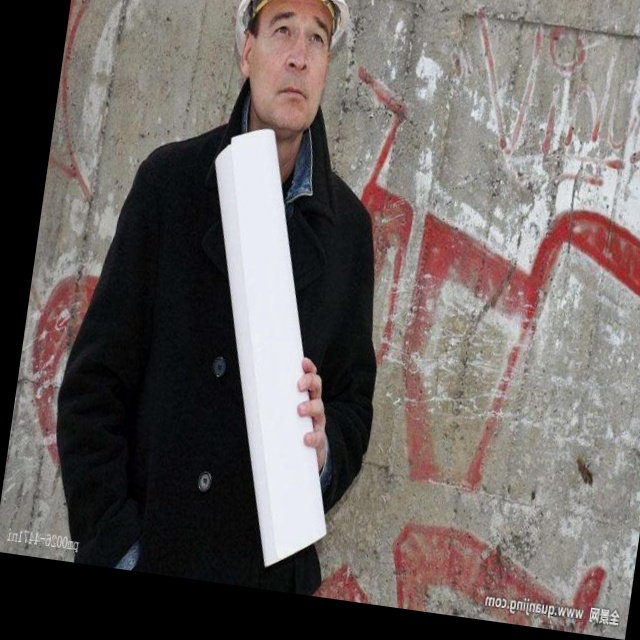Con_Casco: (224, 0, 359, 143)
